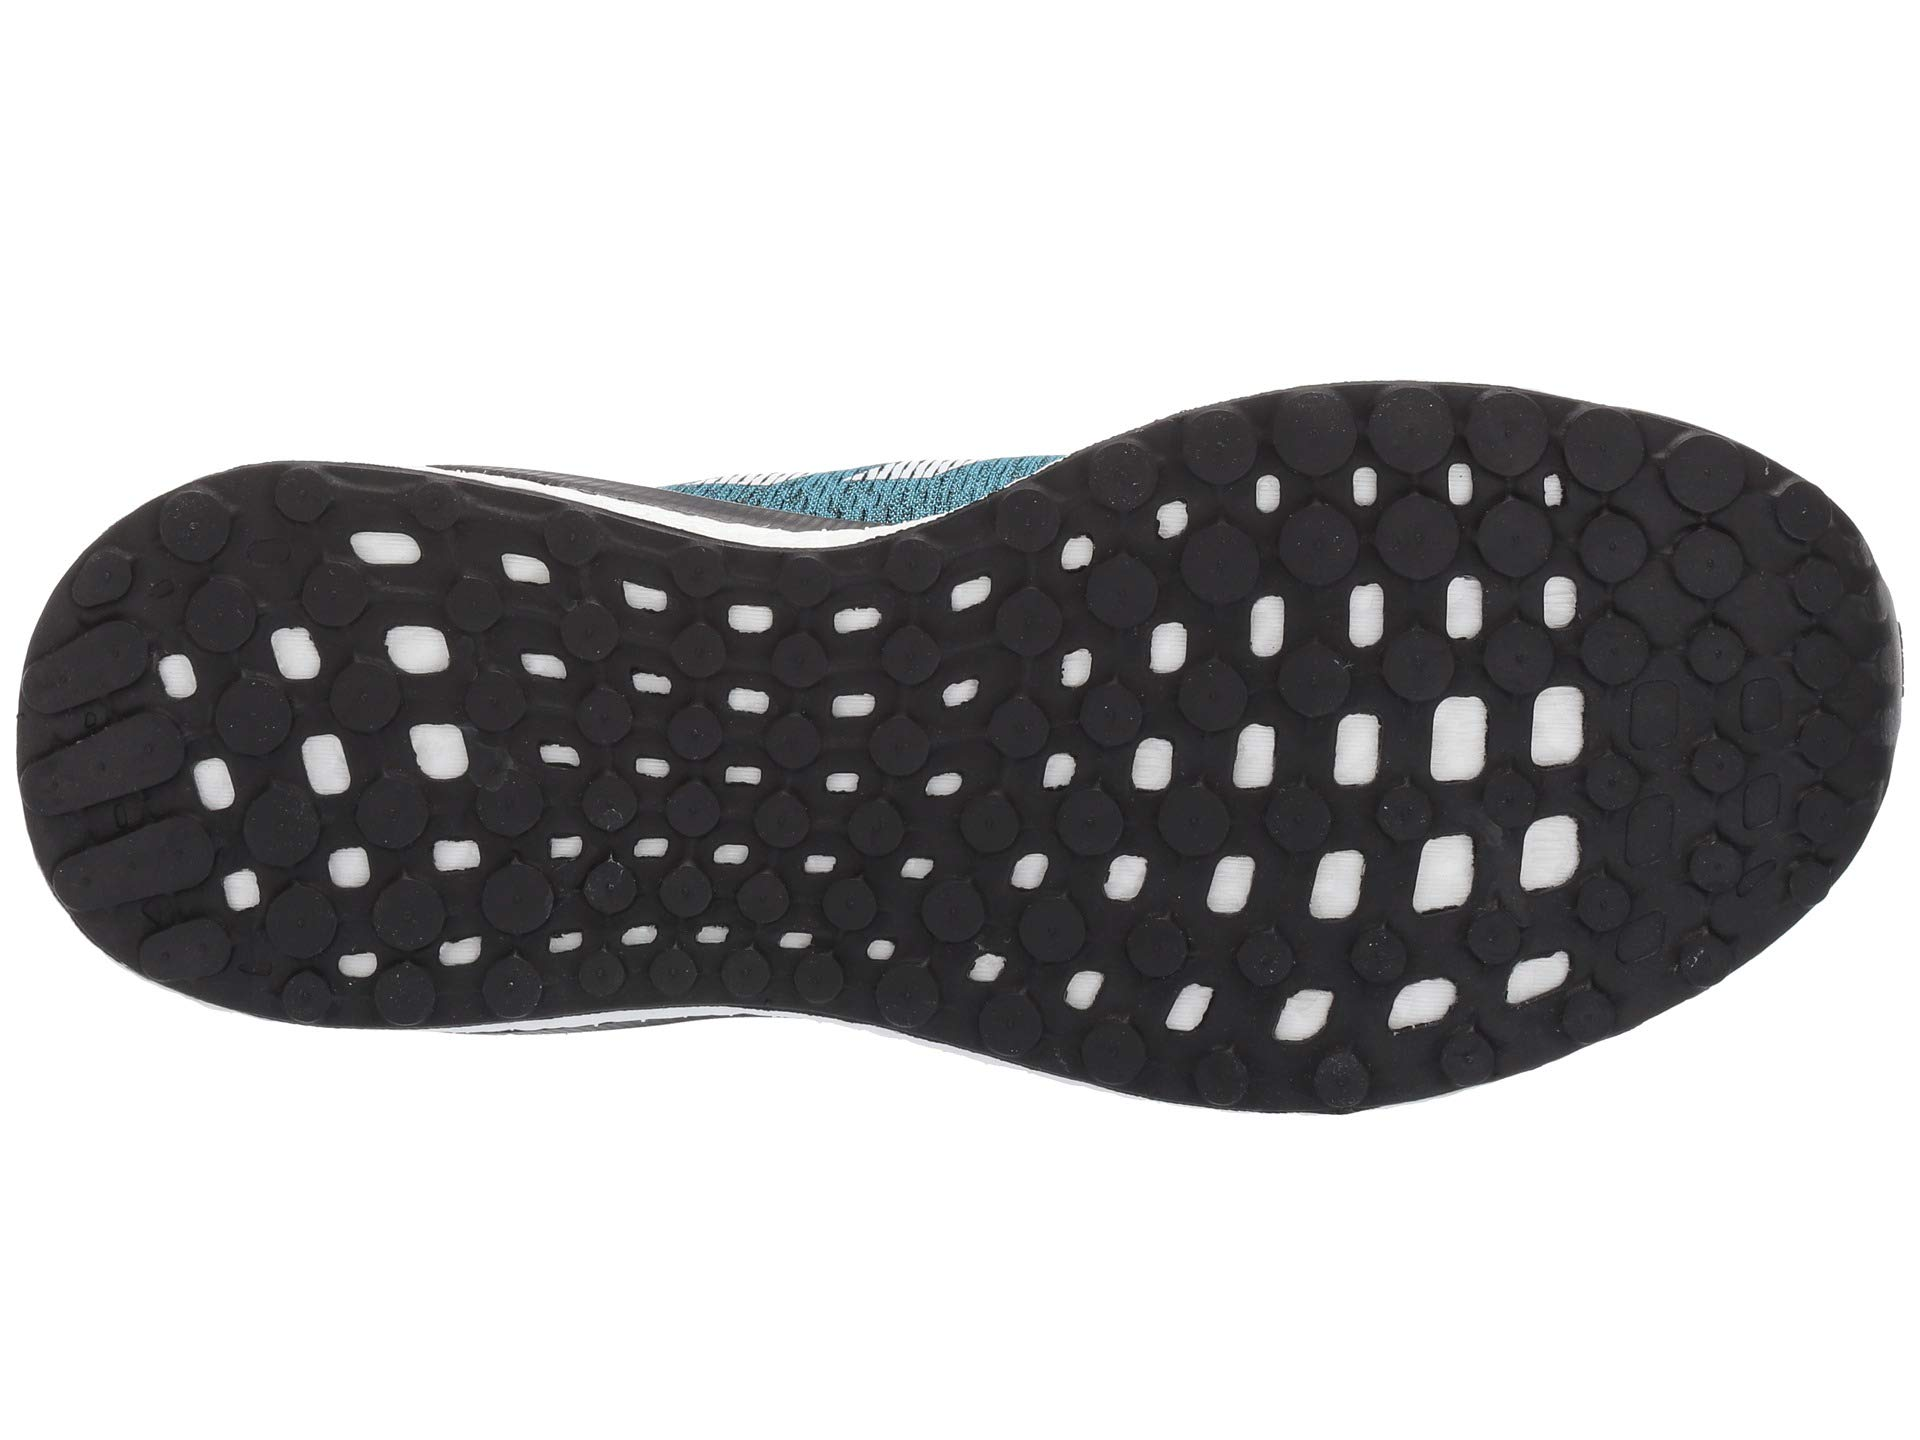circle: (721, 725, 962, 970), (141, 479, 268, 594), (1572, 496, 1674, 610)
quad: (721, 725, 962, 970), (1518, 669, 1621, 779), (1618, 793, 1695, 880)
